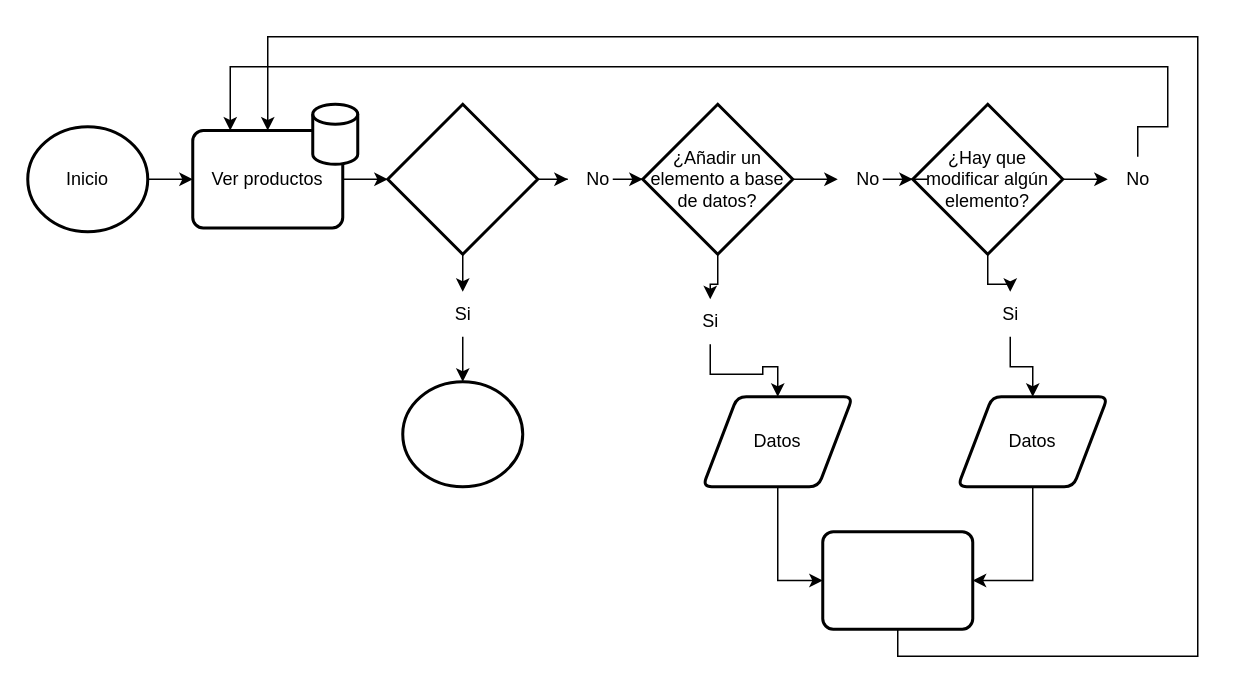
Some shapes in this 1236 by 695 pixel diagram are drawn without their labels. The shapes that lost their labels are listed below. From the top down, each one's centre as x and y in pixels, then its label:
At (x=462, y=178): "¿Terminó?".
At (x=462, y=434): "Fin".
At (x=897, y=580): "Actualizar base de datos.".
